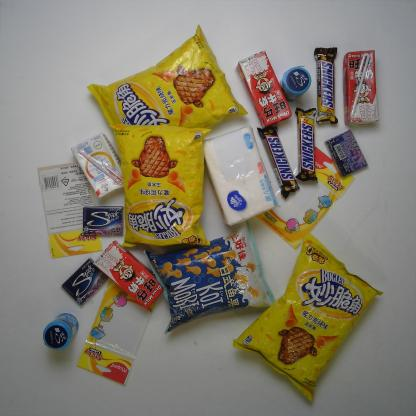Chocolate: (256, 123, 300, 200), (314, 46, 338, 126), (294, 106, 318, 184)
Gum: (61, 256, 110, 307), (323, 128, 368, 179), (41, 313, 80, 351), (277, 64, 312, 102), (82, 206, 124, 235)
Milk: (92, 240, 164, 309), (235, 50, 292, 129), (71, 132, 127, 196), (342, 48, 380, 126)
Puffed Food: (230, 231, 385, 406), (87, 23, 251, 132), (144, 215, 274, 336), (108, 118, 212, 248)
Stationery: (258, 146, 356, 250), (74, 284, 158, 388), (36, 161, 104, 260)
Tissue: (200, 125, 278, 226)
